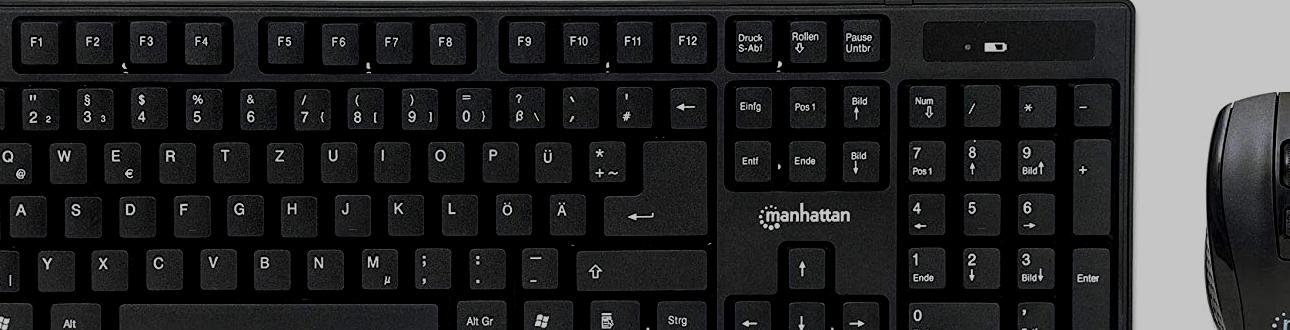0: (447, 79, 491, 129)
1: (1, 82, 23, 130)
2: (15, 82, 59, 130)
3: (70, 81, 112, 130)
4: (125, 80, 166, 128)
5: (178, 82, 220, 129)
6: (233, 81, 275, 129)
7: (288, 82, 328, 129)
8: (340, 80, 382, 129)
9: (394, 81, 436, 129)
a: (4, 190, 45, 236)
accent: (556, 80, 598, 127)
ae: (543, 188, 584, 234)
alt-left: (43, 298, 99, 330)
altgr-right: (450, 294, 506, 330)
b: (247, 244, 290, 289)
c: (140, 243, 182, 288)
caret: (1, 80, 25, 130)
comma: (409, 242, 450, 288)
d: (113, 190, 154, 236)
del: (667, 83, 709, 131)
e: (98, 136, 138, 183)
enter: (602, 133, 708, 236)
f: (168, 189, 208, 235)
g: (221, 189, 262, 234)
h: (275, 190, 316, 236)
hash: (609, 79, 651, 127)
i: (369, 136, 409, 181)
j: (329, 189, 369, 236)
k: (382, 189, 423, 234)
keyboard: (1, 2, 1135, 330)
l: (436, 189, 476, 234)
less: (1, 244, 22, 292)
m: (355, 243, 396, 288)
minus: (516, 242, 556, 286)
n: (302, 244, 343, 289)
o: (421, 135, 463, 181)
oe: (489, 188, 531, 234)
p: (476, 136, 516, 181)
plus: (582, 134, 625, 182)
point: (463, 243, 504, 287)
q: (1, 137, 31, 183)
r: (152, 136, 194, 182)
s: (58, 190, 99, 236)
shift-left: (1, 244, 30, 292)
shift-lock: (1, 191, 37, 235)
shift-right: (571, 244, 707, 289)
space: (113, 297, 440, 330)
ss: (500, 80, 544, 128)
strg-left: (1, 298, 32, 330)
strg-right: (649, 296, 709, 330)
t: (208, 135, 247, 181)
tab: (1, 136, 36, 183)
u: (315, 136, 355, 182)
ue: (528, 136, 570, 182)
v: (194, 243, 236, 288)
w: (43, 136, 85, 183)
x: (86, 244, 126, 289)
y: (32, 245, 73, 290)
z: (261, 136, 302, 182)
